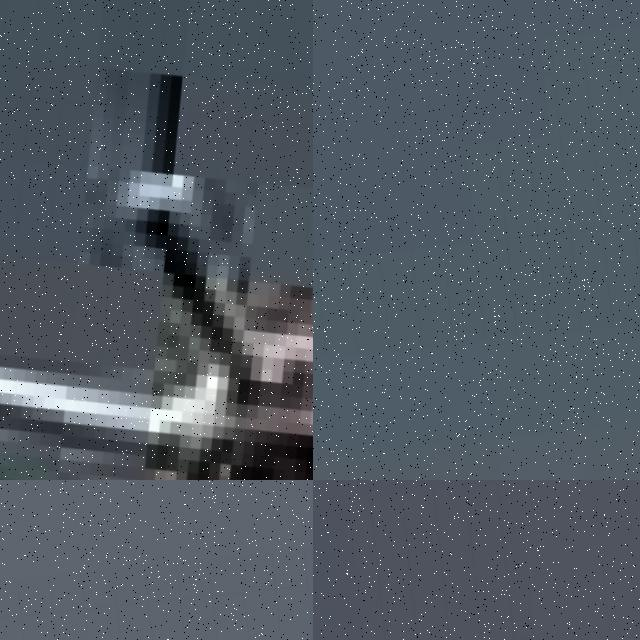drone: (0, 0, 313, 480)
